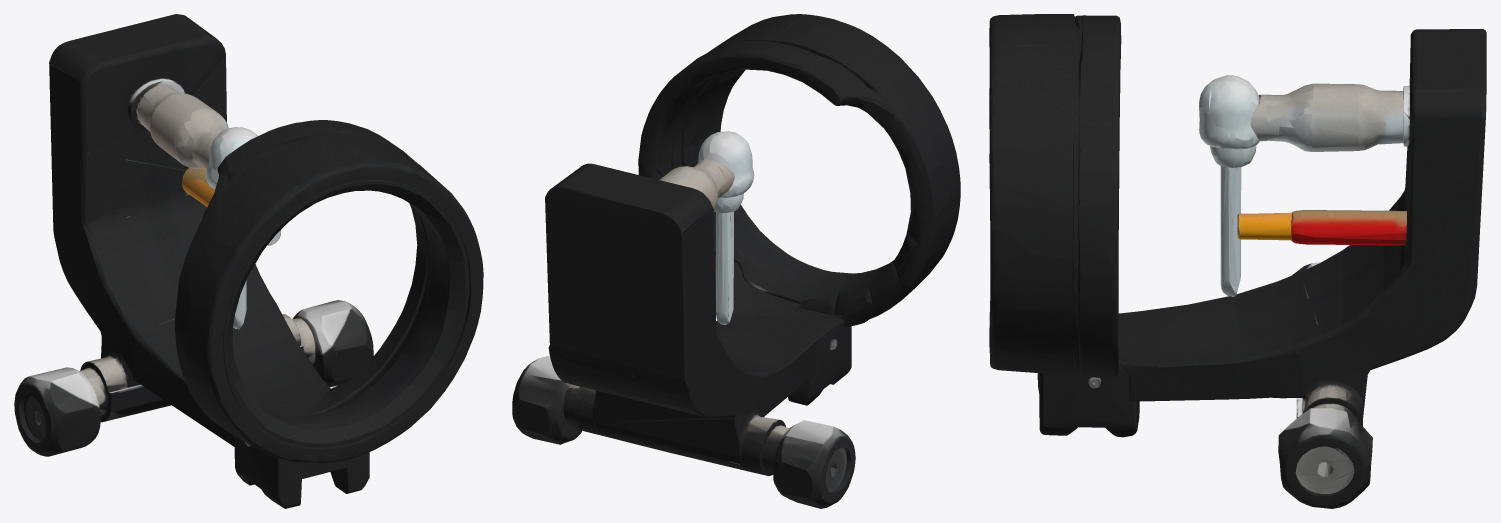
File: bow-sight.glb
The picture shows the model from 3 angles, left to right: view 1: azimuth 30°, elevation 25°; view 2: azimuth 150°, elevation 25°; view 3: azimuth 270°, elevation 25°; orthographic projection. The views are drawn at different scales.
Size of the model in its own units: 1.56 by 1.67 by 1.9.
1 material, 1 textured.
